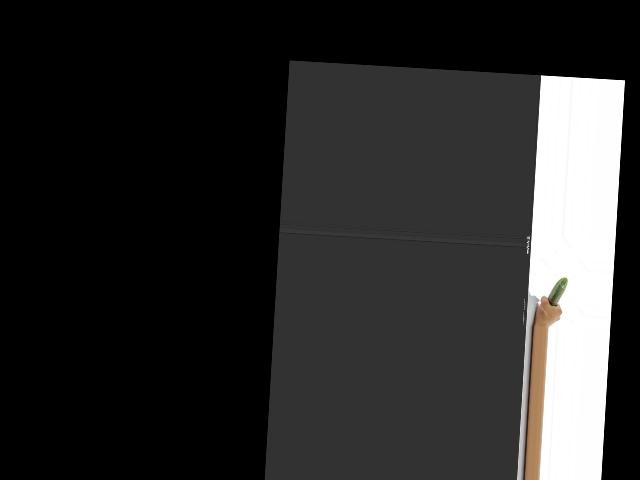cucumber: (547, 276, 567, 307)
